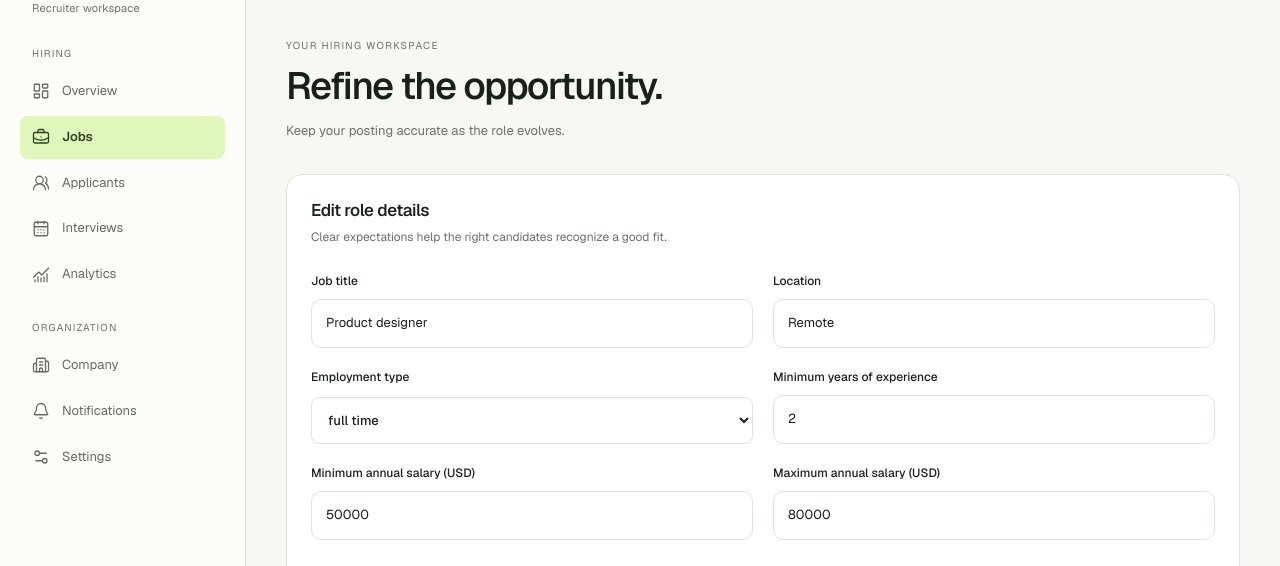
it: Recruiter product workflows › blocks invalid salary ranges before creating a job
Replace the text in the number field labelled "Minimum annual salary (USD)" with "90000" at coordinates (532, 516), box [311,491,753,540]
(page scrolled)
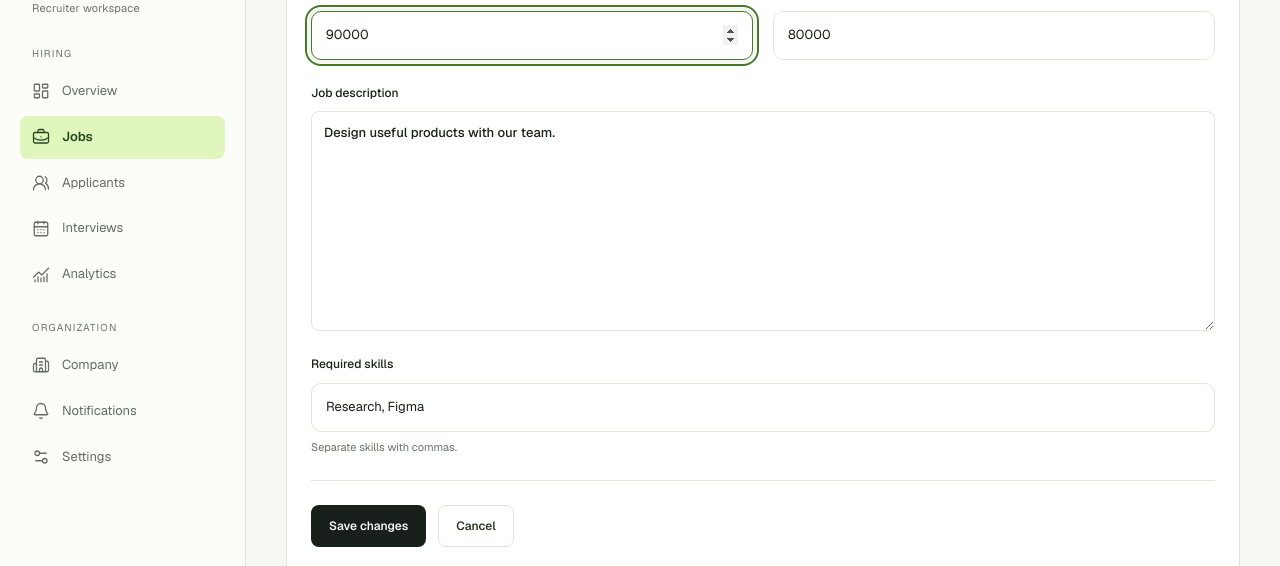
Click the button "Save changes" at coordinates (369, 526), box [311,505,426,547]
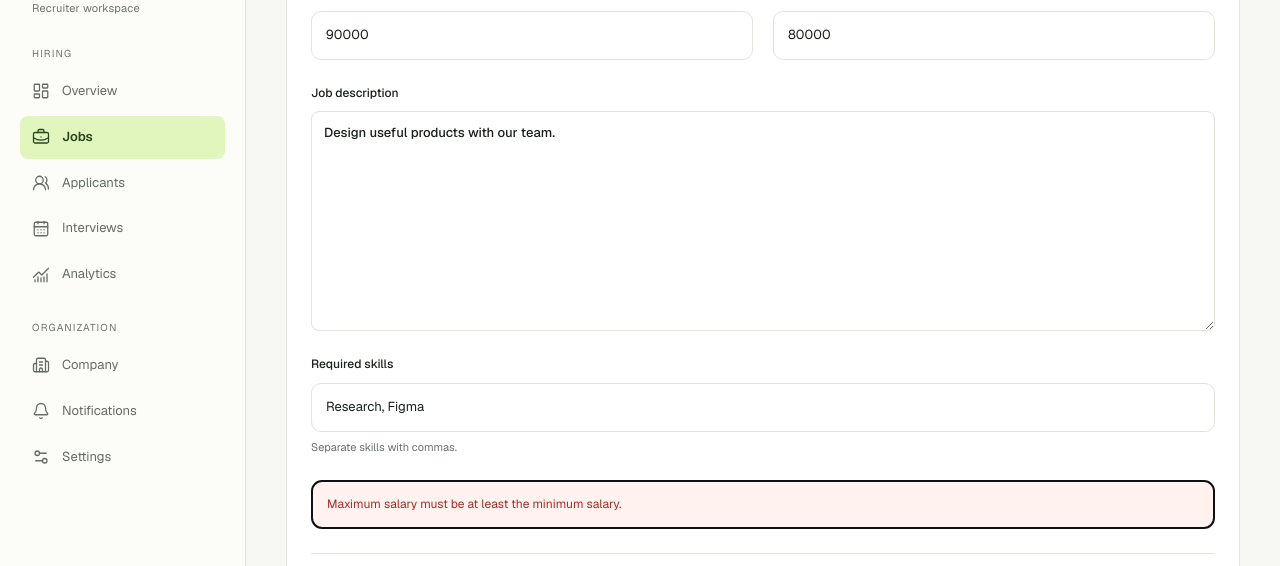
Now the message reads "Maximum salary must be at least the minimum salary.", box [327,496,622,512]
